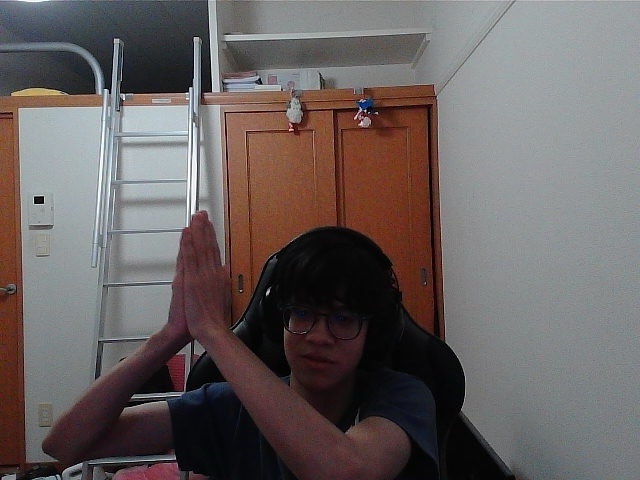pray: (187, 214, 227, 319)
